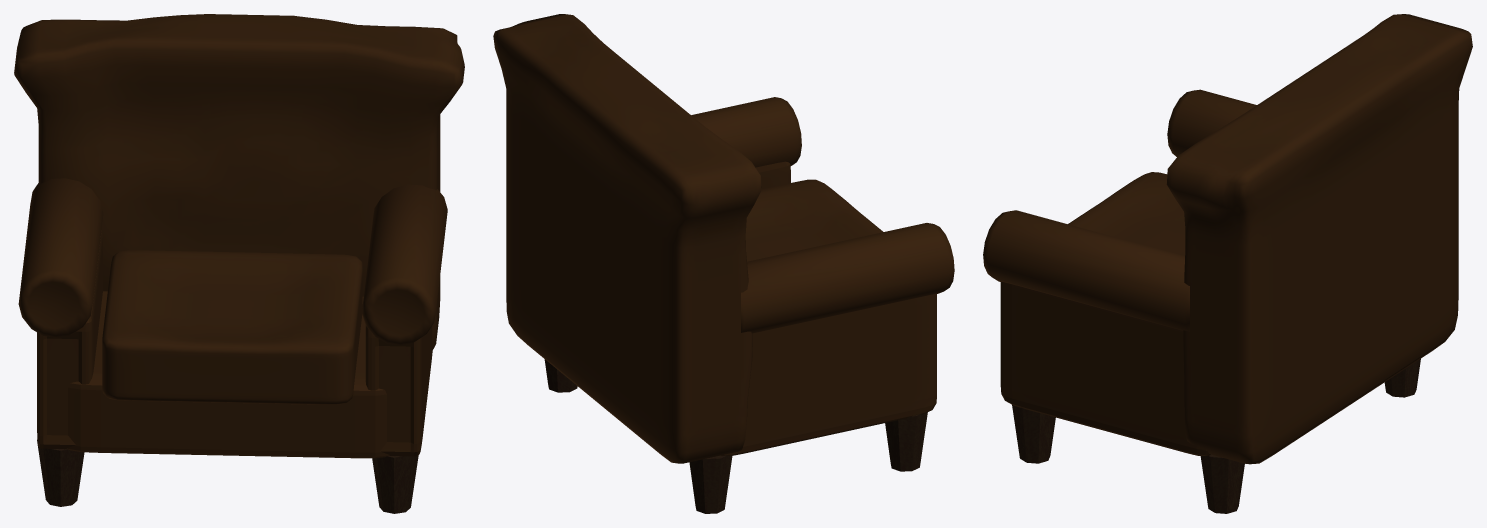
The model's file is Armchair.glb.
3 views of the same model, side by side, from view 1: azimuth 30°, elevation 25°; view 2: azimuth 150°, elevation 25°; view 3: azimuth 270°, elevation 25° (orthographic). The views are drawn at different scales.
Parts seen in each view (by area): view 1: Armchair; view 2: Armchair; view 3: Armchair.
Part boxes in pixels (x1,y1,x2,y2): Armchair: [14, 14, 464, 513]; Armchair: [493, 14, 954, 513]; Armchair: [983, 14, 1472, 513].
Size of the model in its own units: 23.79 by 18.66 by 22.48.
1 material, 1 textured.
